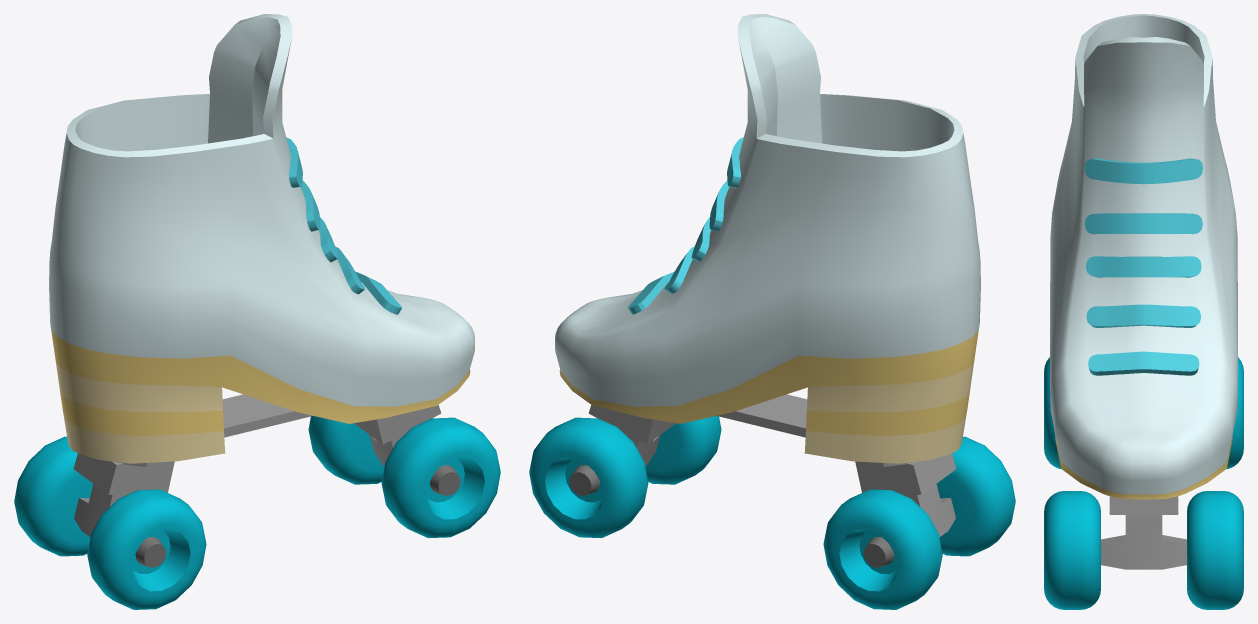
The model's file is roller_skate.fbx.
3 renders of one model, left to right at view 1: azimuth 30°, elevation 25°; view 2: azimuth 150°, elevation 25°; view 3: azimuth 270°, elevation 25°, orthographic. The views are drawn at different scales.
Parts seen in each view (by area): view 1: Circle.2394; view 2: Circle.2394; view 3: Circle.2394.
Boxes of the visible parts, x1,y1,x2,y2 form: Circle.2394: (14,14,500,609); Circle.2394: (529,14,1015,609); Circle.2394: (1044,14,1243,609).
Size of the model in its own units: 192 by 233 by 83.33.
Materials: 1 (1 with a texture image).
